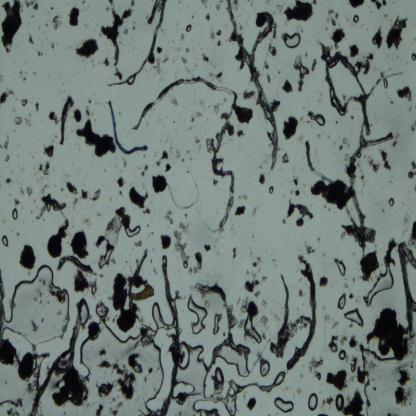Air bubble: (0, 263, 71, 345), (358, 342, 416, 416), (366, 263, 394, 306), (219, 344, 250, 378), (186, 295, 208, 335), (151, 301, 173, 332), (243, 315, 262, 344), (224, 380, 239, 415), (343, 304, 365, 327), (170, 380, 194, 398), (273, 396, 295, 414), (77, 298, 91, 326), (98, 248, 116, 268), (180, 343, 191, 370), (282, 33, 301, 48), (334, 259, 348, 278), (307, 392, 319, 413), (270, 372, 285, 388), (126, 224, 141, 238), (335, 393, 345, 412), (260, 360, 270, 379), (213, 313, 221, 336), (314, 112, 325, 127), (337, 294, 346, 311), (1, 234, 9, 249), (337, 349, 346, 360), (90, 283, 98, 295), (12, 207, 18, 221), (382, 78, 388, 91), (409, 52, 416, 63), (352, 14, 360, 23), (184, 24, 192, 32), (268, 186, 274, 194), (389, 198, 394, 206)
Background material: (364, 305, 410, 361), (75, 119, 117, 159), (97, 358, 134, 403), (53, 366, 90, 410), (110, 272, 136, 334), (309, 179, 354, 211), (95, 207, 130, 246), (1, 0, 25, 56), (46, 218, 70, 260), (172, 222, 189, 271), (385, 16, 409, 50), (36, 193, 66, 218), (282, 0, 316, 22), (342, 223, 380, 242), (287, 199, 313, 226), (292, 52, 309, 93), (359, 249, 381, 280), (129, 187, 152, 216), (392, 368, 410, 405), (70, 228, 90, 260), (72, 36, 100, 58), (325, 369, 349, 392), (0, 336, 19, 365), (45, 280, 67, 305), (344, 388, 363, 415), (320, 302, 338, 330), (72, 269, 91, 295), (18, 352, 34, 382), (240, 296, 260, 319), (0, 397, 25, 415), (152, 44, 166, 76), (127, 350, 144, 376), (233, 105, 254, 126), (250, 255, 265, 283), (135, 326, 152, 350), (308, 356, 324, 381), (20, 245, 36, 269), (282, 116, 298, 140), (329, 28, 347, 49), (356, 54, 374, 75), (35, 158, 52, 180), (395, 85, 413, 102), (370, 25, 382, 50), (87, 319, 100, 342), (151, 175, 167, 193), (0, 88, 15, 107), (69, 5, 81, 28), (264, 38, 277, 59), (346, 42, 361, 60), (83, 95, 95, 116), (50, 12, 62, 32), (28, 317, 42, 334), (280, 78, 293, 96), (328, 336, 340, 355), (245, 279, 260, 293), (42, 143, 56, 158), (382, 150, 392, 171), (159, 233, 172, 249), (241, 88, 257, 101), (408, 220, 416, 245), (72, 106, 83, 124), (319, 394, 334, 407), (407, 160, 416, 181), (356, 367, 367, 384), (194, 253, 204, 271), (327, 10, 338, 26), (210, 26, 221, 42), (19, 66, 30, 82), (49, 109, 59, 126), (116, 175, 126, 192), (65, 184, 78, 197), (233, 203, 246, 216), (368, 158, 380, 172), (26, 0, 40, 12), (91, 188, 102, 203), (304, 240, 315, 255), (93, 401, 104, 416), (371, 0, 386, 11), (79, 188, 90, 202), (269, 98, 280, 112), (46, 37, 56, 52), (349, 0, 365, 9), (216, 69, 225, 85), (309, 59, 319, 73), (247, 397, 256, 412), (250, 202, 257, 221), (181, 53, 191, 66), (26, 112, 34, 128), (339, 136, 347, 152), (200, 51, 209, 65), (226, 123, 235, 137), (191, 109, 202, 120), (182, 263, 193, 274), (280, 153, 291, 164), (12, 115, 23, 126), (260, 314, 270, 326), (260, 58, 270, 70), (318, 276, 328, 288), (160, 150, 170, 162), (306, 110, 315, 123), (213, 103, 222, 116), (25, 186, 34, 198), (20, 97, 29, 109), (3, 177, 12, 189), (141, 163, 148, 178), (175, 147, 183, 160), (204, 12, 212, 25), (349, 335, 357, 348), (258, 173, 266, 185), (37, 290, 44, 303), (194, 138, 203, 148), (108, 407, 118, 416), (102, 56, 110, 67), (266, 72, 273, 84), (3, 156, 12, 165), (203, 244, 212, 253), (146, 366, 156, 374), (133, 240, 143, 248), (408, 120, 416, 130), (211, 178, 220, 186), (34, 101, 40, 113), (214, 0, 221, 10), (164, 162, 171, 172), (0, 72, 7, 82), (232, 244, 236, 260), (99, 349, 108, 356), (3, 140, 8, 152), (13, 196, 19, 206), (392, 137, 398, 147), (294, 188, 300, 198), (28, 34, 34, 44), (292, 178, 299, 186), (236, 129, 243, 137), (280, 216, 286, 224), (20, 184, 24, 196), (201, 0, 207, 8), (178, 34, 186, 40), (171, 99, 177, 106), (184, 47, 191, 53), (351, 290, 355, 300), (39, 51, 44, 58), (48, 5, 54, 10), (41, 279, 46, 284), (130, 0, 134, 6), (350, 116, 354, 121), (336, 122, 339, 126), (125, 161, 127, 166)
Cellulose filter fibre: (134, 76, 242, 232), (226, 1, 278, 173), (348, 131, 392, 260), (325, 52, 391, 135), (192, 284, 252, 370), (108, 1, 167, 87), (302, 139, 358, 229), (30, 319, 82, 415), (287, 267, 321, 371), (160, 257, 181, 414), (101, 3, 130, 81), (395, 239, 416, 330), (126, 248, 150, 324), (163, 169, 200, 211), (274, 272, 292, 354), (56, 251, 93, 275), (60, 96, 73, 148)
Cotton: (106, 97, 148, 155)
